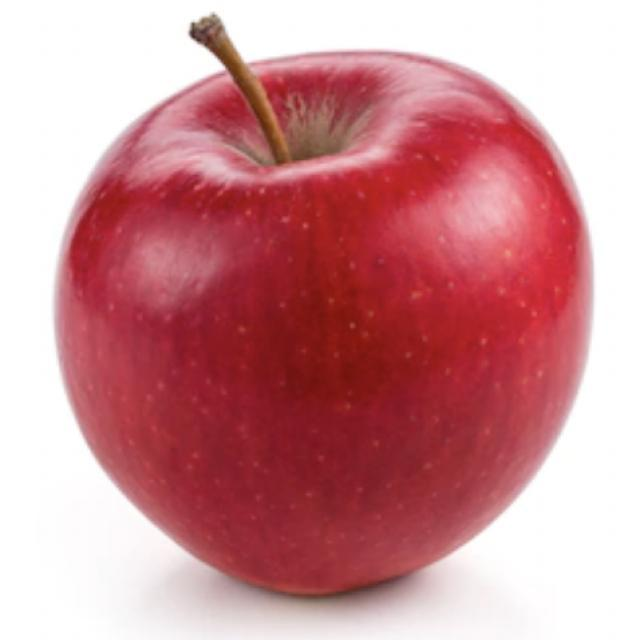Fresh Apple: (71, 58, 599, 640)
